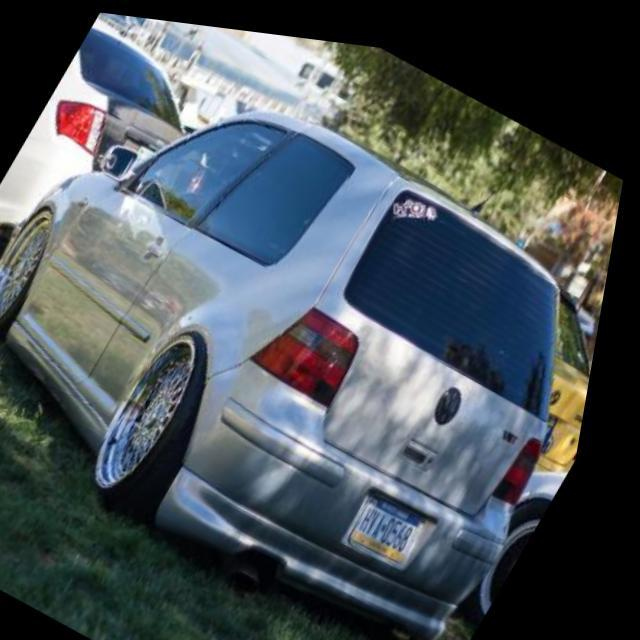license_plate: (362, 478, 444, 554), (132, 137, 162, 169)
